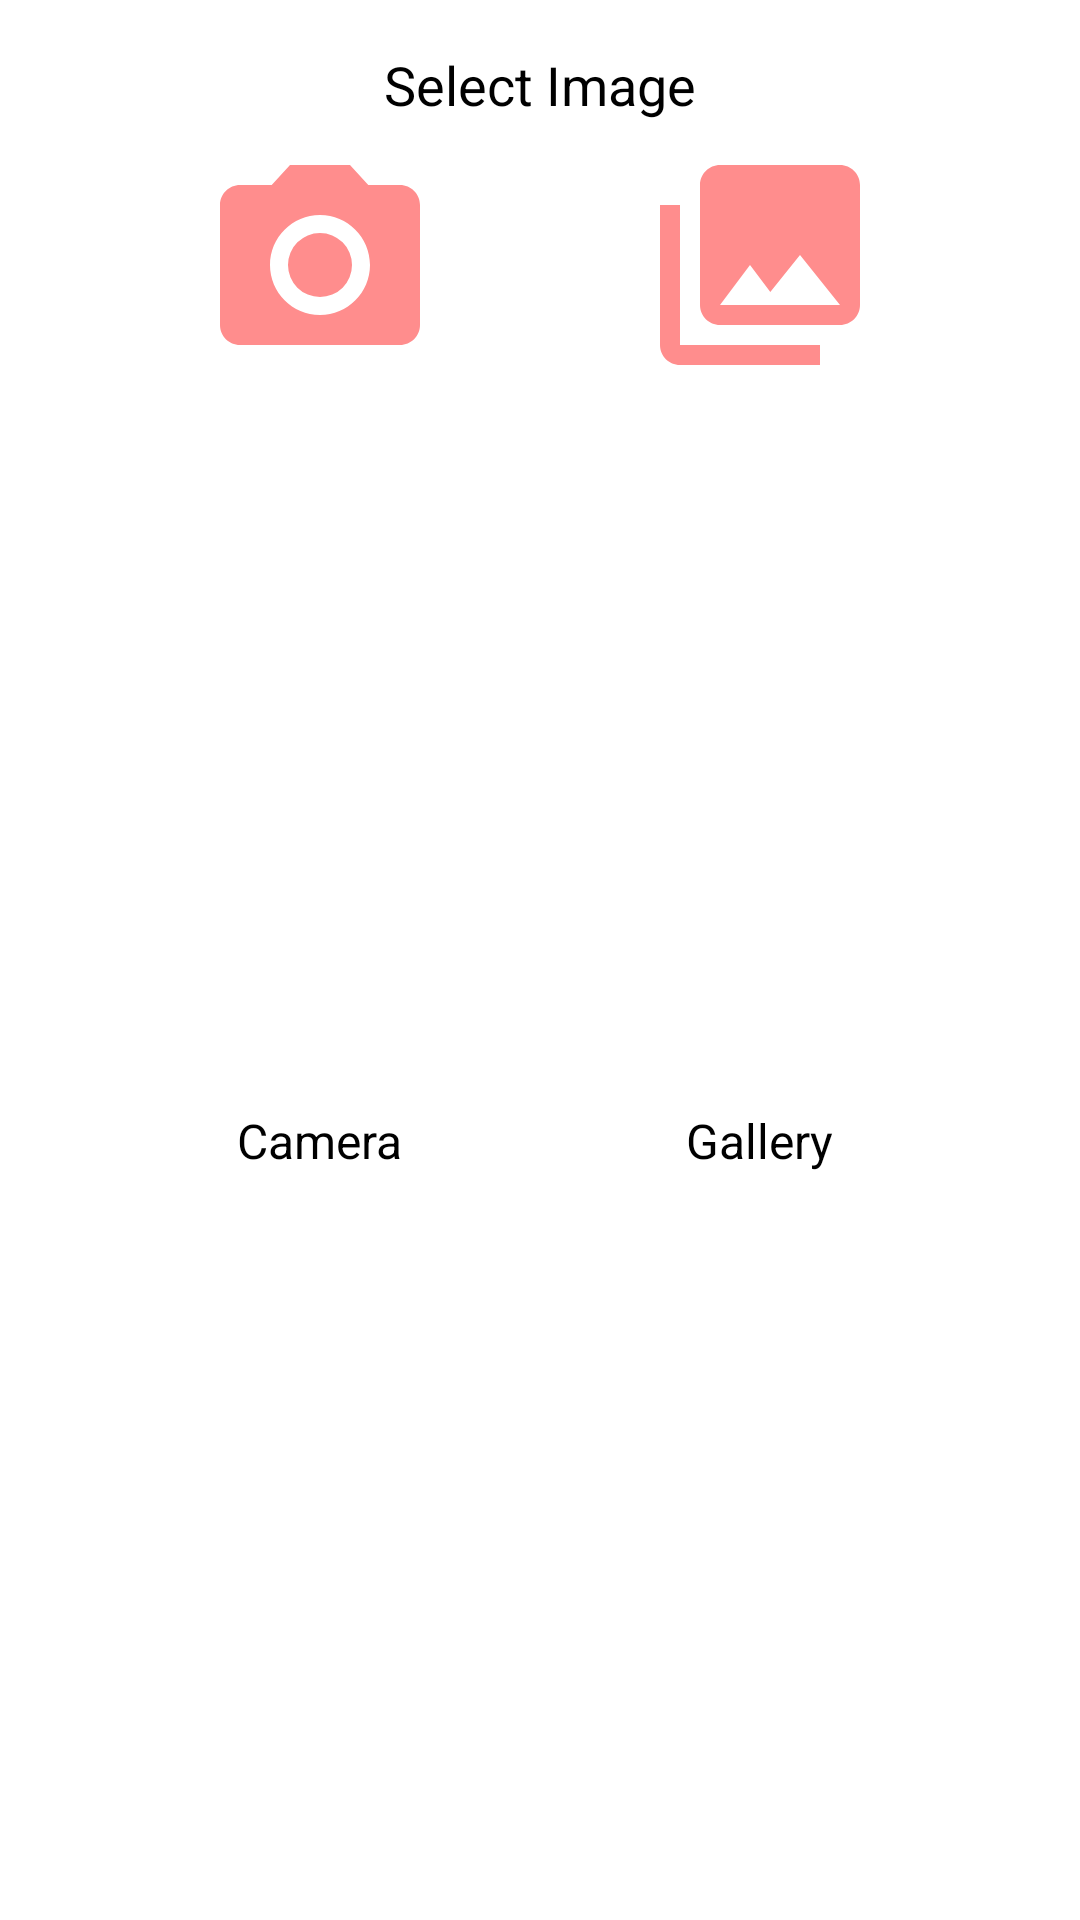

Named icons in this screenshot (1080px×1920px) and their bounding boxes, bbox=[x1, y1, x2, y2]:
camera: bbox=[220, 165, 420, 345]
gallery: bbox=[660, 165, 860, 365]
